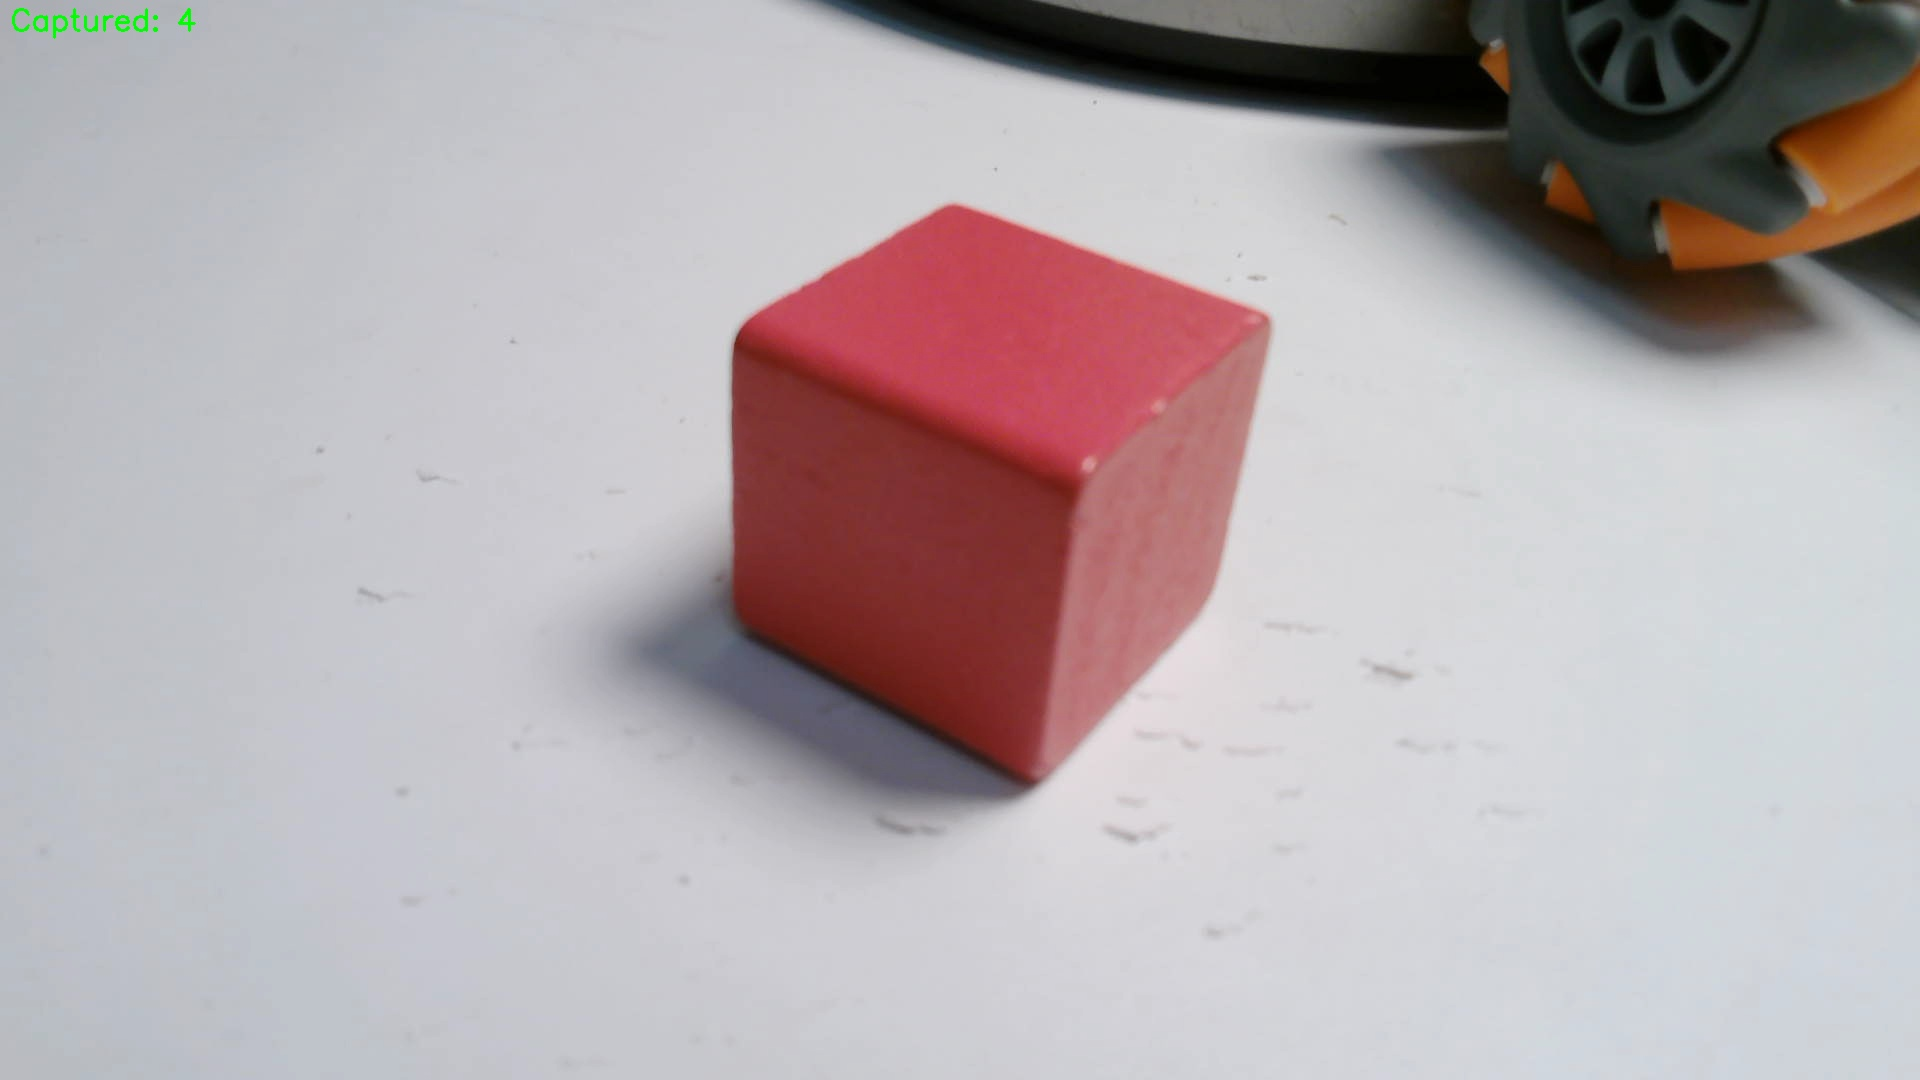red: (731, 203, 1274, 783)
